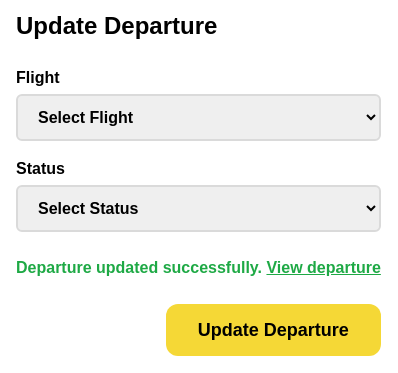
Test: DeparturesForm › status change › resets success notice if set
The width and height of the screenshot is (398, 373).
Select "Departed" in the dropdown with id "update-status" at point(198, 208), box [16,185,381,232]
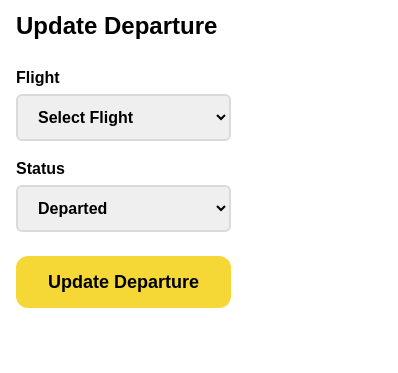
Expected: the element with test id "success-notice" is gone
